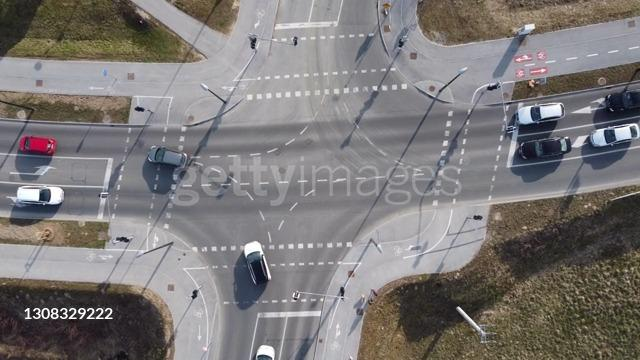car: (240, 235, 272, 289), (143, 141, 190, 177), (510, 99, 568, 128), (14, 182, 68, 212), (582, 124, 640, 150), (516, 136, 574, 160), (15, 136, 61, 158), (604, 86, 640, 114), (253, 334, 279, 360)
